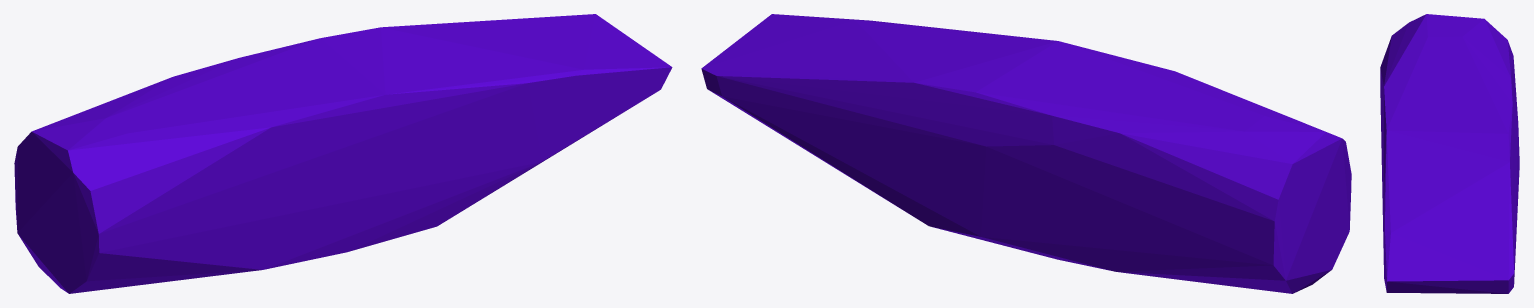
The model's file is model7_convex_piece_000.obj.
The picture shows the model from 3 angles, left to right: view 1: azimuth 30°, elevation 25°; view 2: azimuth 150°, elevation 25°; view 3: azimuth 270°, elevation 25°; orthographic projection. The views are drawn at different scales.
Size of the model in its own units: 0.0823 by 0.02 by 0.0206.
